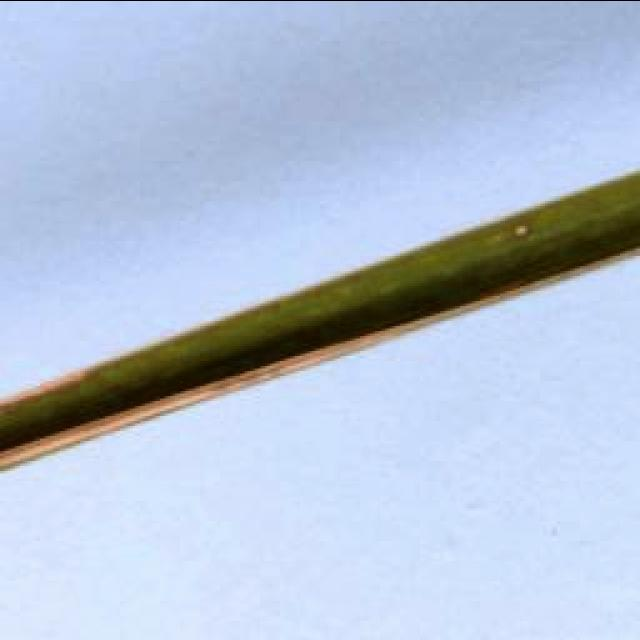Unhealthy: (0, 244, 640, 468), (0, 367, 84, 409), (510, 221, 531, 237)
